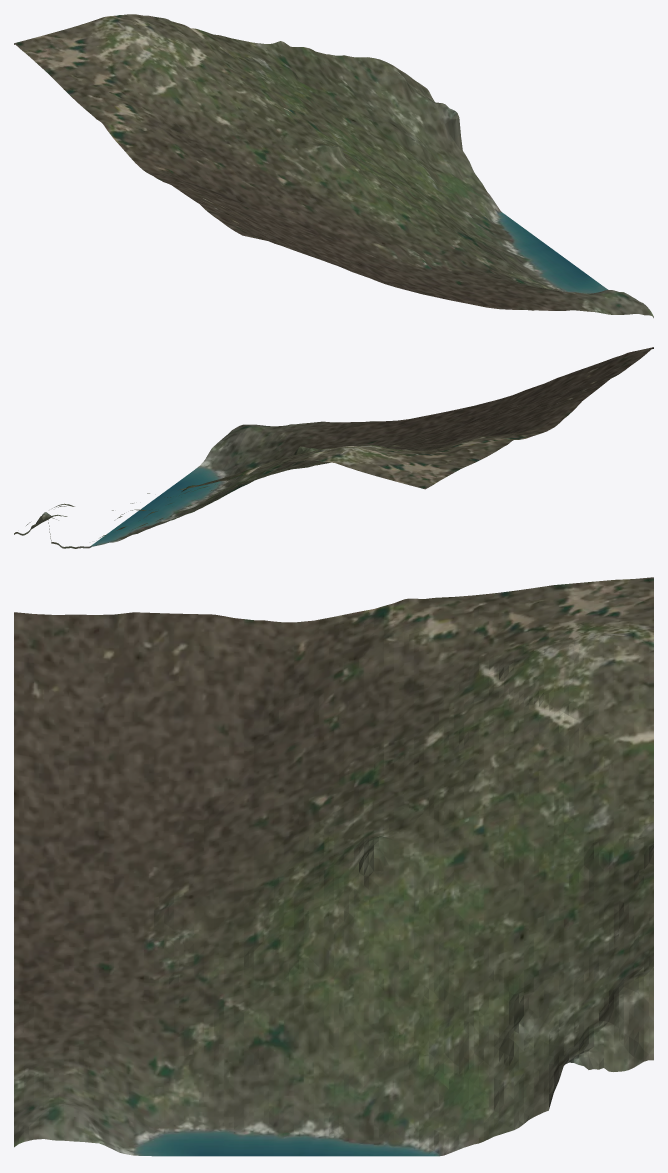
3 renders of one model, top to bottom at view 1: azimuth 30°, elevation 25°; view 2: azimuth 150°, elevation 25°; view 3: azimuth 270°, elevation 25°, orthographic. The views are drawn at different scales.
Bounding box in the file's own units: 250 × 128 × 241.
Materials: 1 (1 with a texture image).
